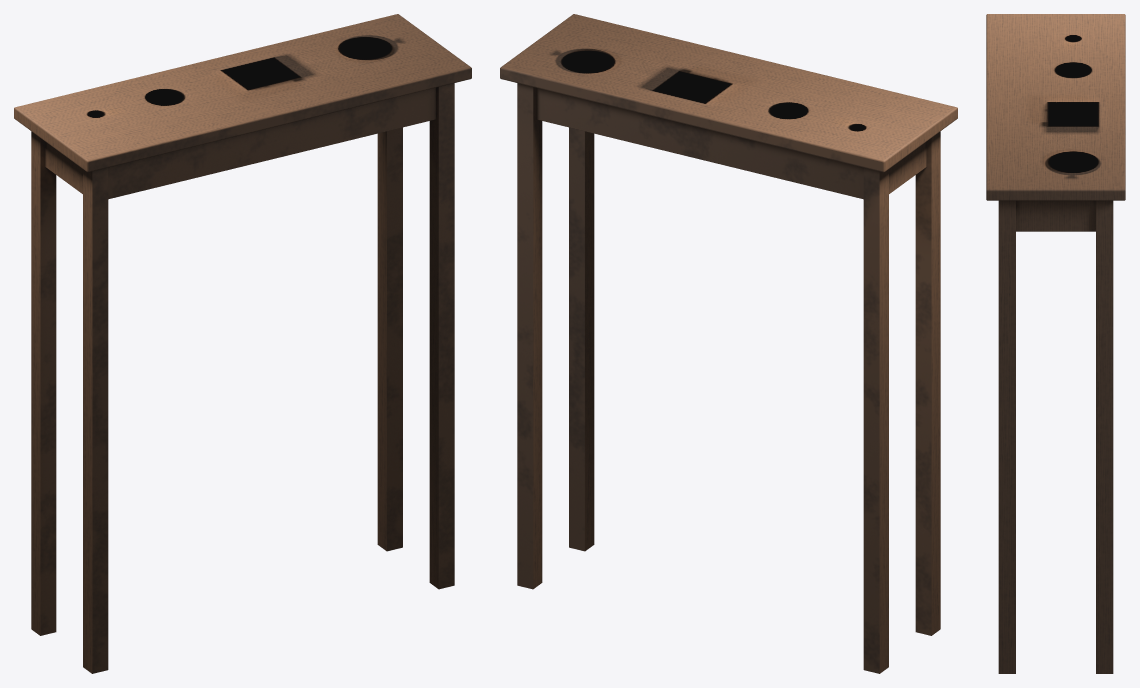
Rendered from 511_hook.glb.
3 views of the same model, side by side, from view 1: azimuth 30°, elevation 25°; view 2: azimuth 150°, elevation 25°; view 3: azimuth 270°, elevation 25° (orthographic). The views are drawn at different scales.
Visible parts, largest first — view 1: Table; view 2: Table; view 3: Table.
Part boxes in pixels (bbox=[...]): Table: bbox=[14, 14, 471, 673]; Table: bbox=[500, 14, 957, 673]; Table: bbox=[986, 14, 1125, 673].
Size of what is drawn, in the model's own units: 2.4 by 3.1 by 0.8.
Materials: 1 (1 with a texture image).
